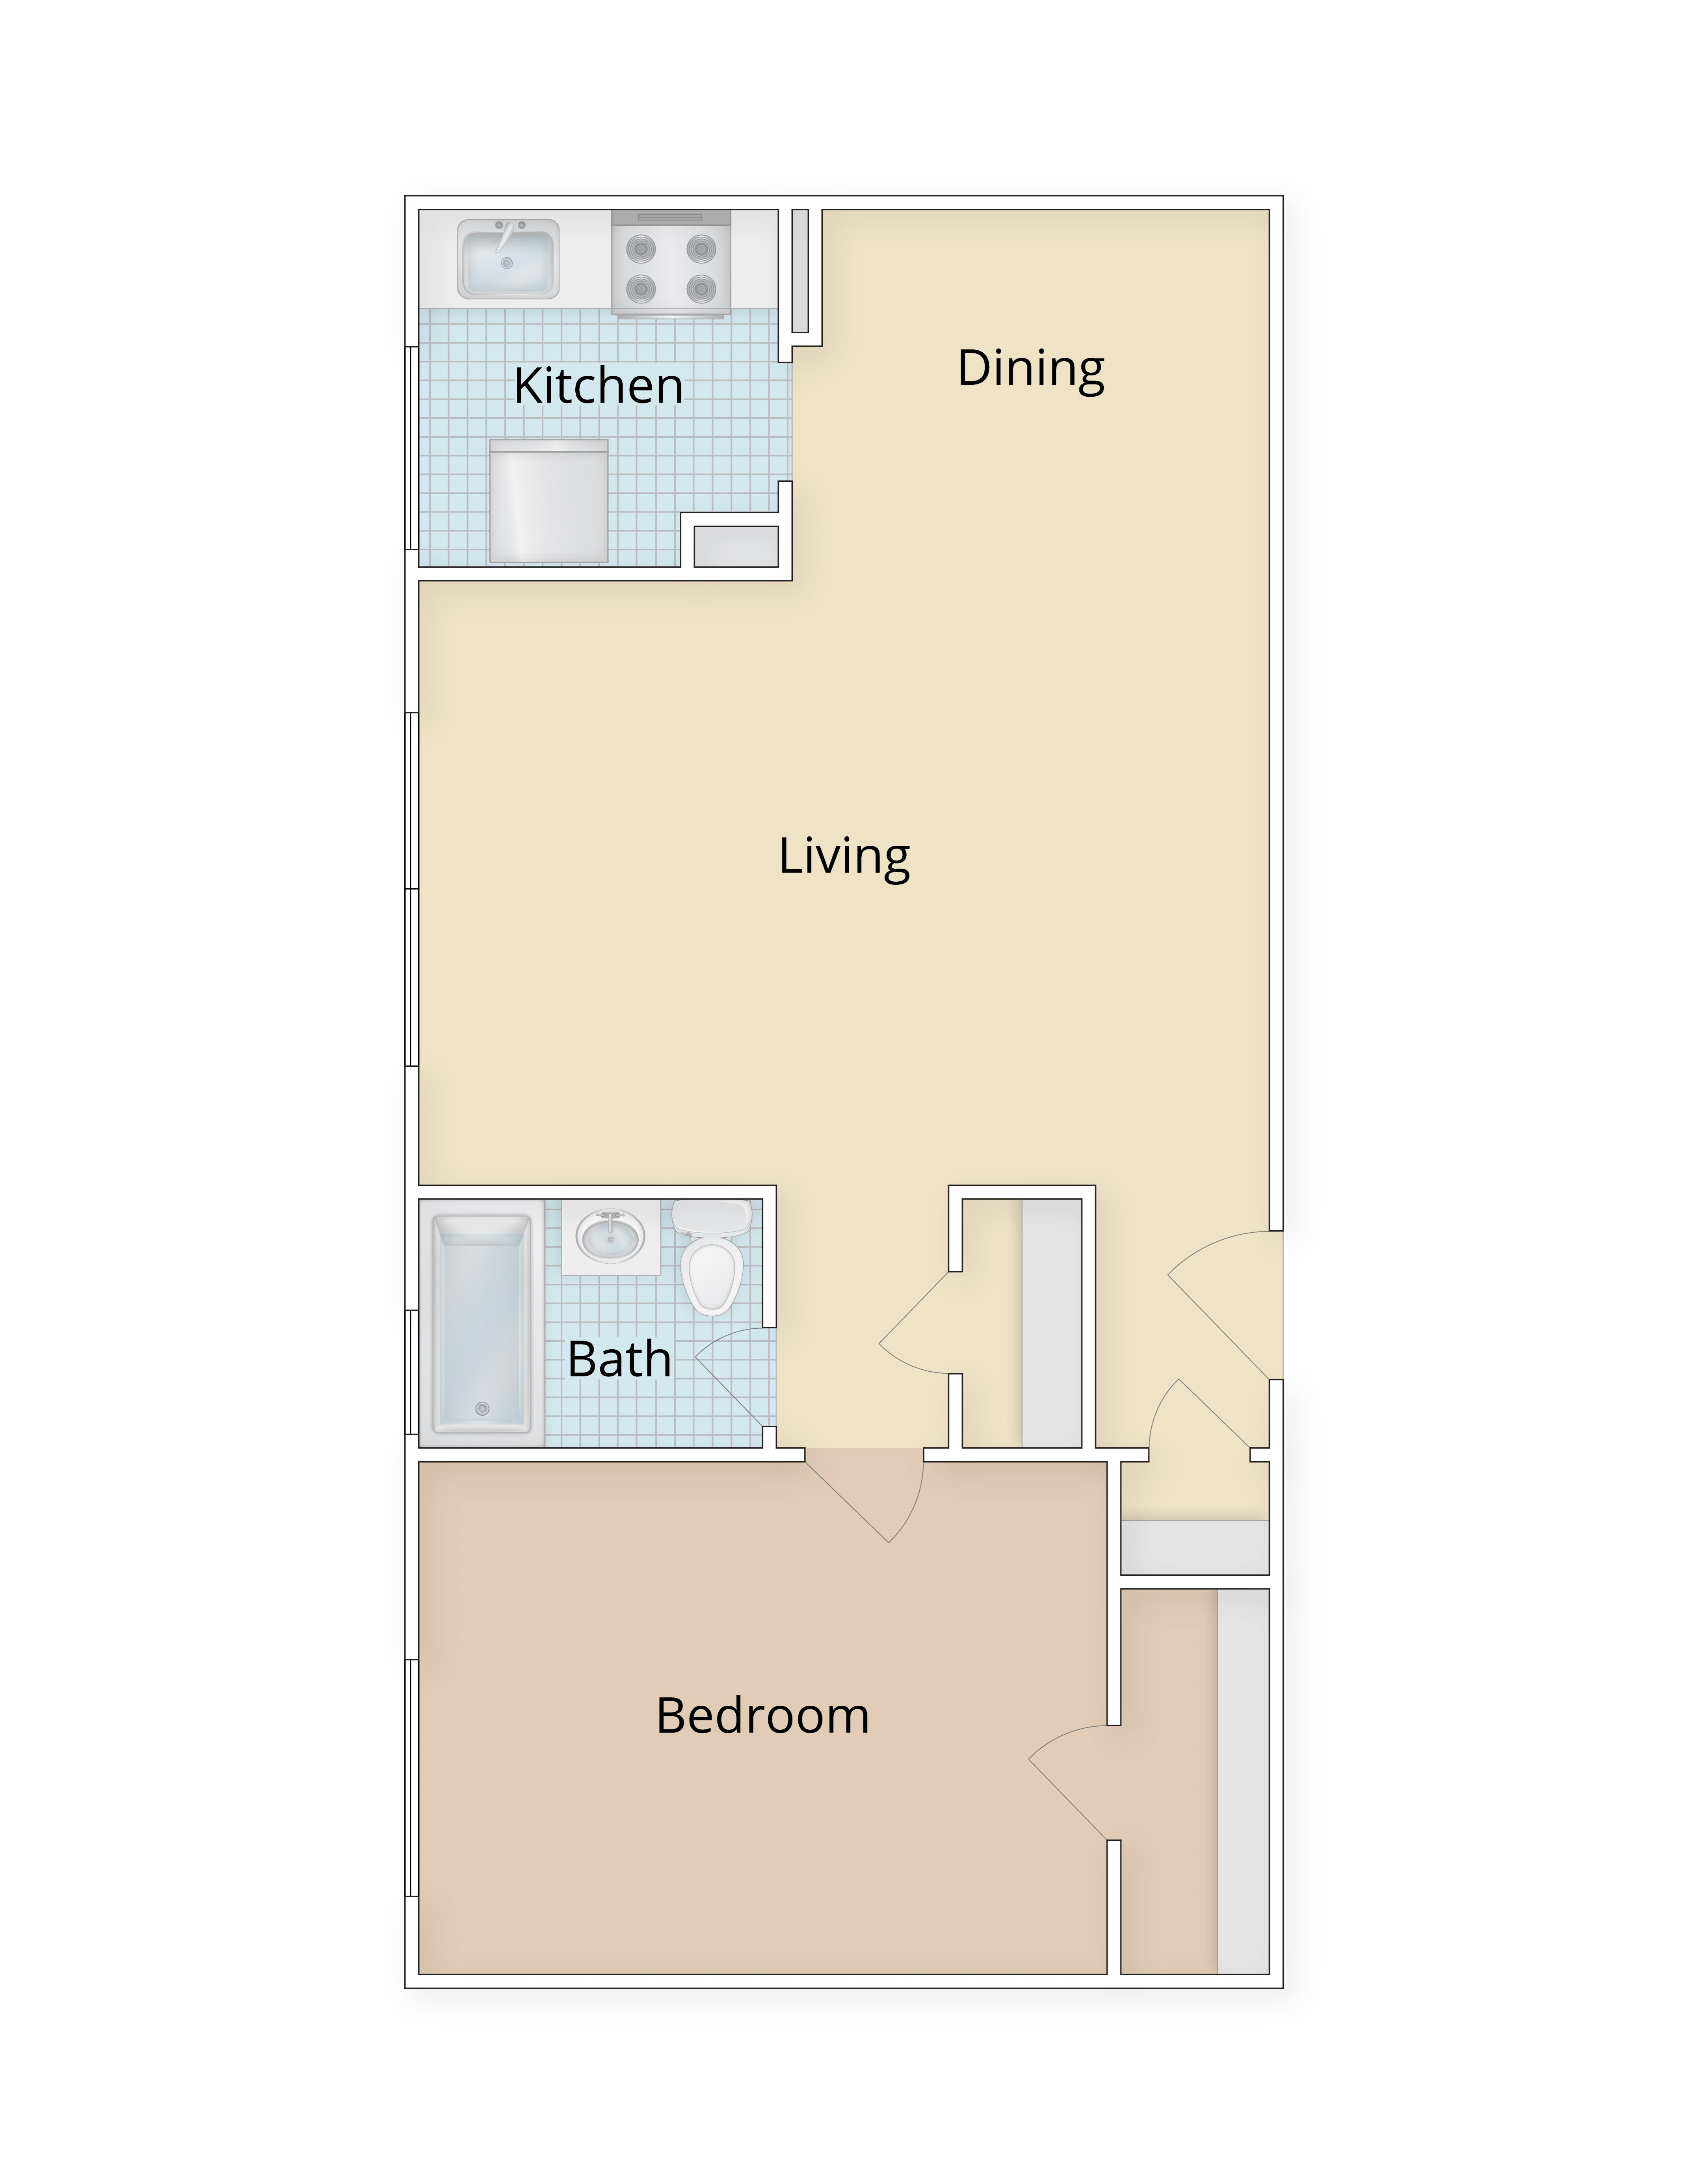door: (1167, 1230, 1284, 1381), (1028, 1723, 1122, 1842), (803, 1461, 931, 1548), (874, 1271, 966, 1376), (1149, 1374, 1254, 1462)
